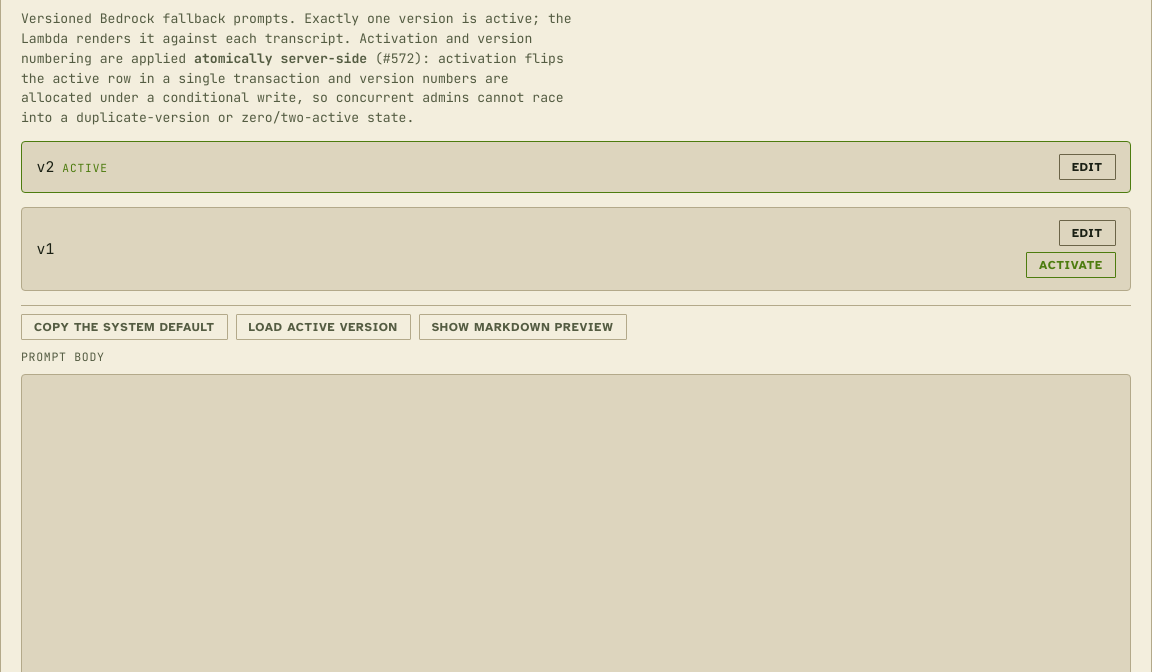
Test: LinguisticPromptTemplates › activates an inactive version via the atomic mutation and reports success
Expected: the list with test id "template-list" is shown, 21,141 -> 1131,291
Step 1. Click the button "Activate" → (1071, 265), box 1026,252 -> 1116,278
(page scrolled)
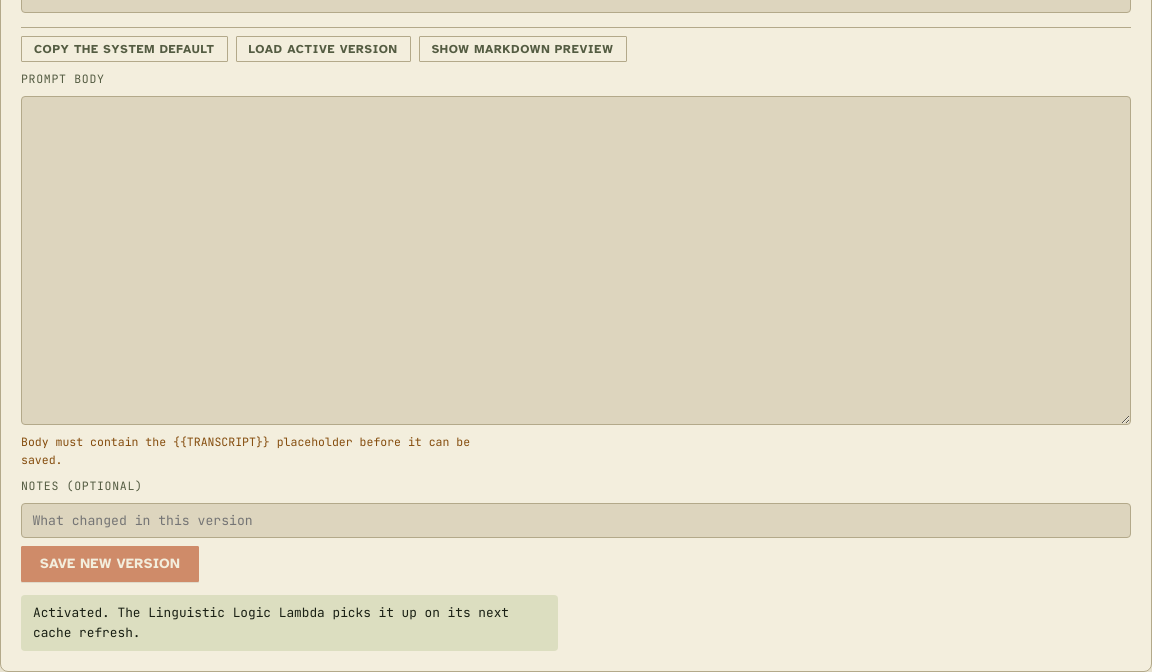
Expected: the message shows "Activated", 33,604 -> 509,641
